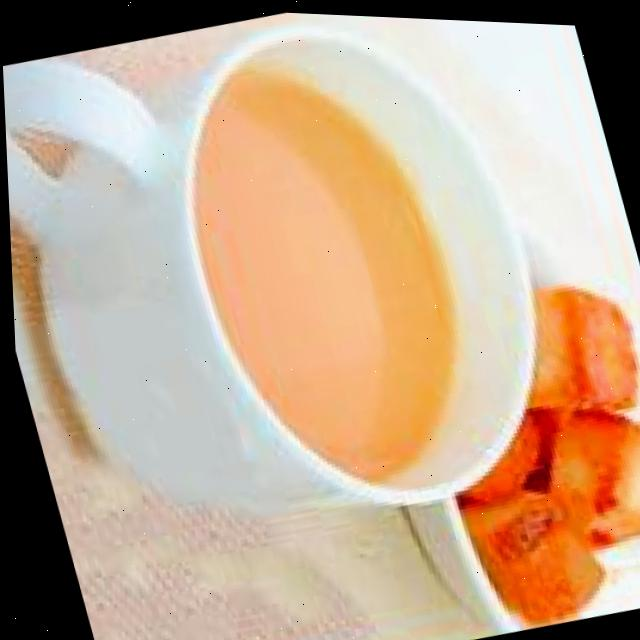汤锅炖物: (0, 0, 601, 590)
